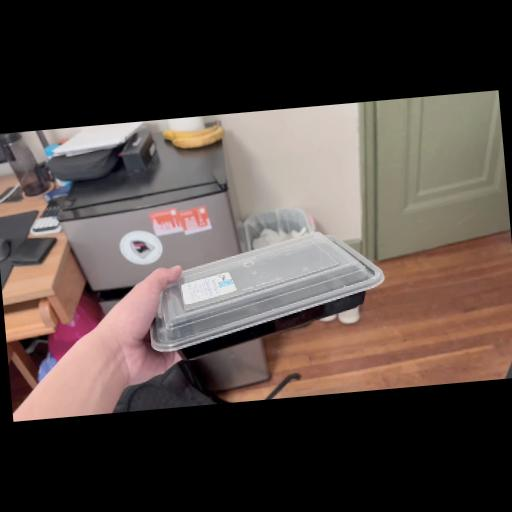rigid_plastic_container: (147, 227, 385, 356)
